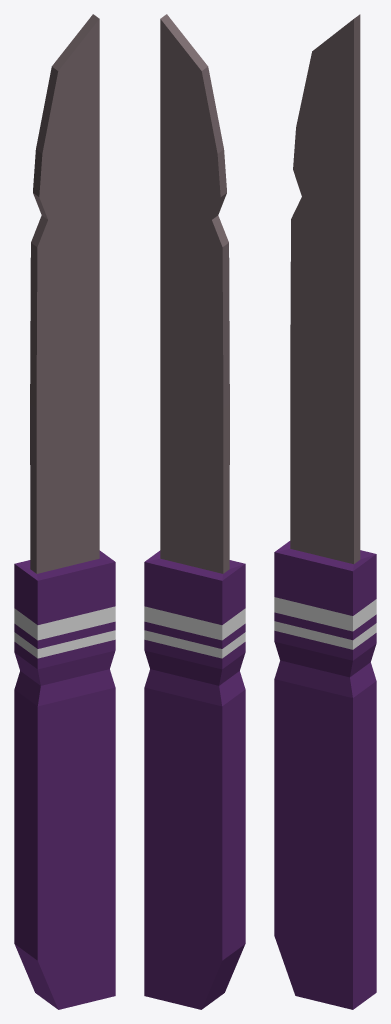
Rendered from knife.glb.
The picture shows the model from 3 angles, left to right: view 1: azimuth 30°, elevation 25°; view 2: azimuth 150°, elevation 25°; view 3: azimuth 330°, elevation 25°; orthographic projection.
Parts seen in each view (by area): view 1: Plane.001; view 2: Plane.001; view 3: Plane.001.
Boxes of the visible parts, x1,y1,x2,y2 form: Plane.001: [14, 14, 115, 1009]; Plane.001: [144, 14, 245, 1009]; Plane.001: [274, 14, 376, 1009].
Size of the model in its own units: 0.0559 by 0.6686 by 0.0291.
